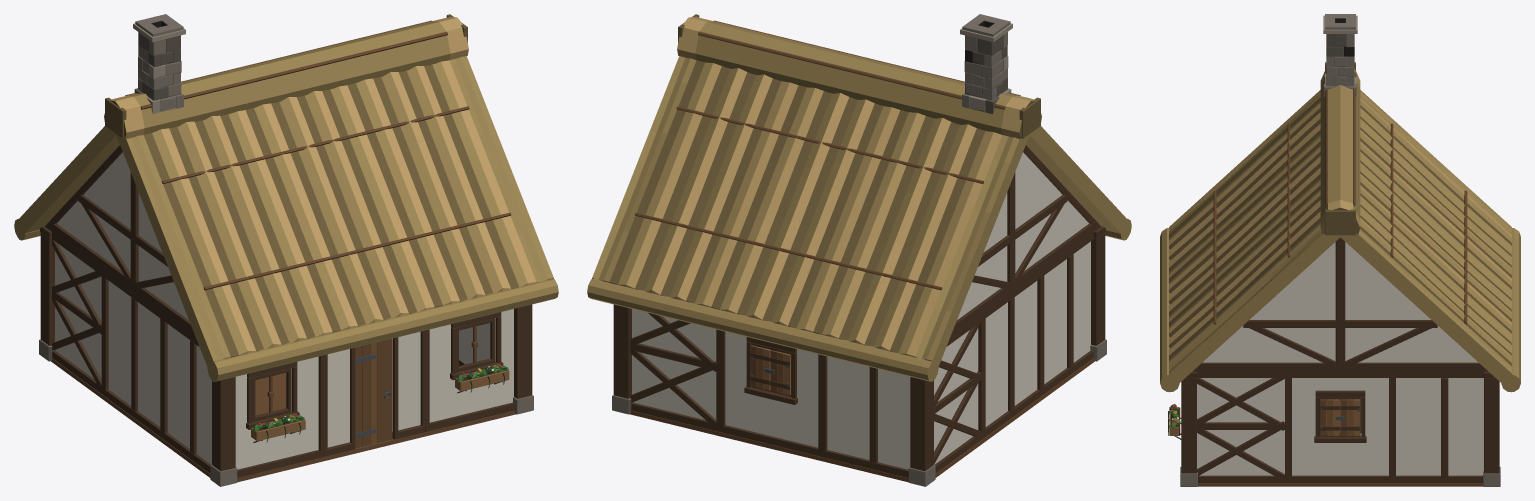
The model's file is mdvl_village_cottage_01.glb.
3 renders of one model, left to right at view 1: azimuth 30°, elevation 25°; view 2: azimuth 150°, elevation 25°; view 3: azimuth 270°, elevation 25°, orthographic. The views are drawn at different scales.
Visible parts, largest first — view 1: mdvl_village_cottage_01; view 2: mdvl_village_cottage_01; view 3: mdvl_village_cottage_01.
Boxes of the visible parts, x1=… form: mdvl_village_cottage_01: x1=14, y1=14, x2=558, y2=486; mdvl_village_cottage_01: x1=587, y1=14, x2=1131, y2=486; mdvl_village_cottage_01: x1=1160, y1=14, x2=1520, y2=486.
Bounding box in the file's own units: 6.78 × 7.32 × 6.94.
1 material, 1 textured.
